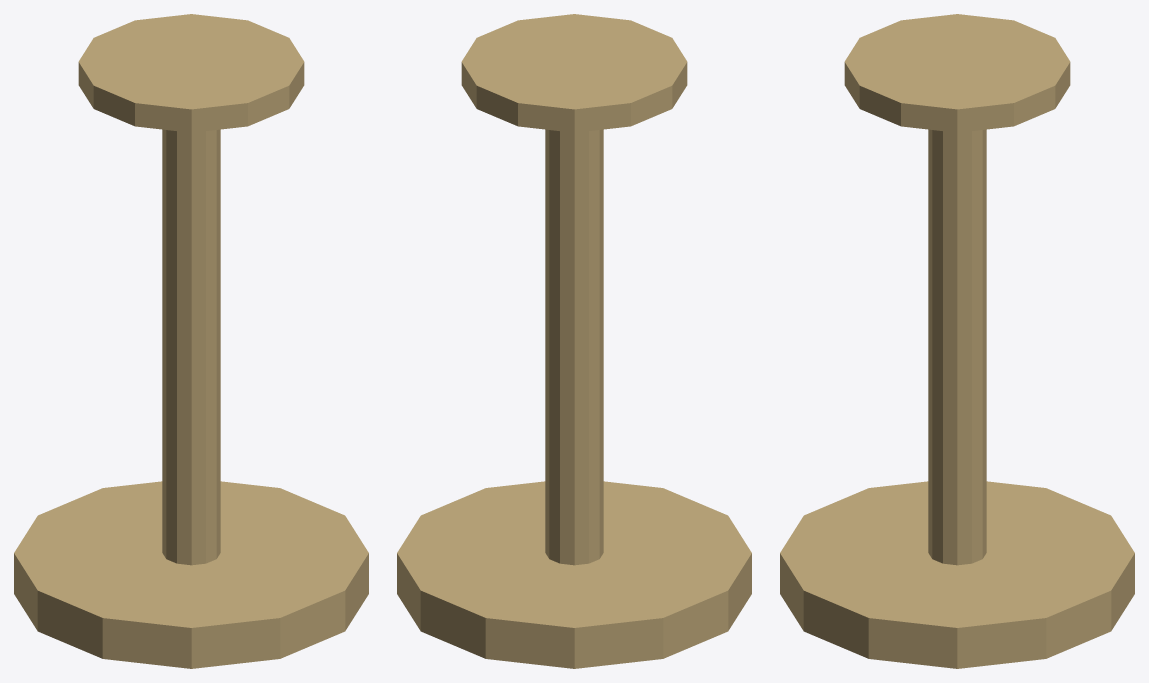
File: PR-STAND.glb
The picture shows the model from 3 angles, left to right: view 1: azimuth 30°, elevation 25°; view 2: azimuth 150°, elevation 25°; view 3: azimuth 270°, elevation 25°; orthographic projection.
Visible parts, largest first — view 1: base, stem, tray; view 2: base, stem, tray; view 3: base, stem, tray.
Part boxes in pixels (x1,y1,x2,y2): base: (14,481,368,668); stem: (162,129,220,565); tray: (78,14,304,132); base: (397,481,751,668); stem: (545,129,603,565); tray: (461,14,687,132); base: (780,481,1134,668); stem: (928,129,986,565); tray: (844,14,1070,132).
Size of the model in its own units: 0.11 by 0.182 by 0.11.
